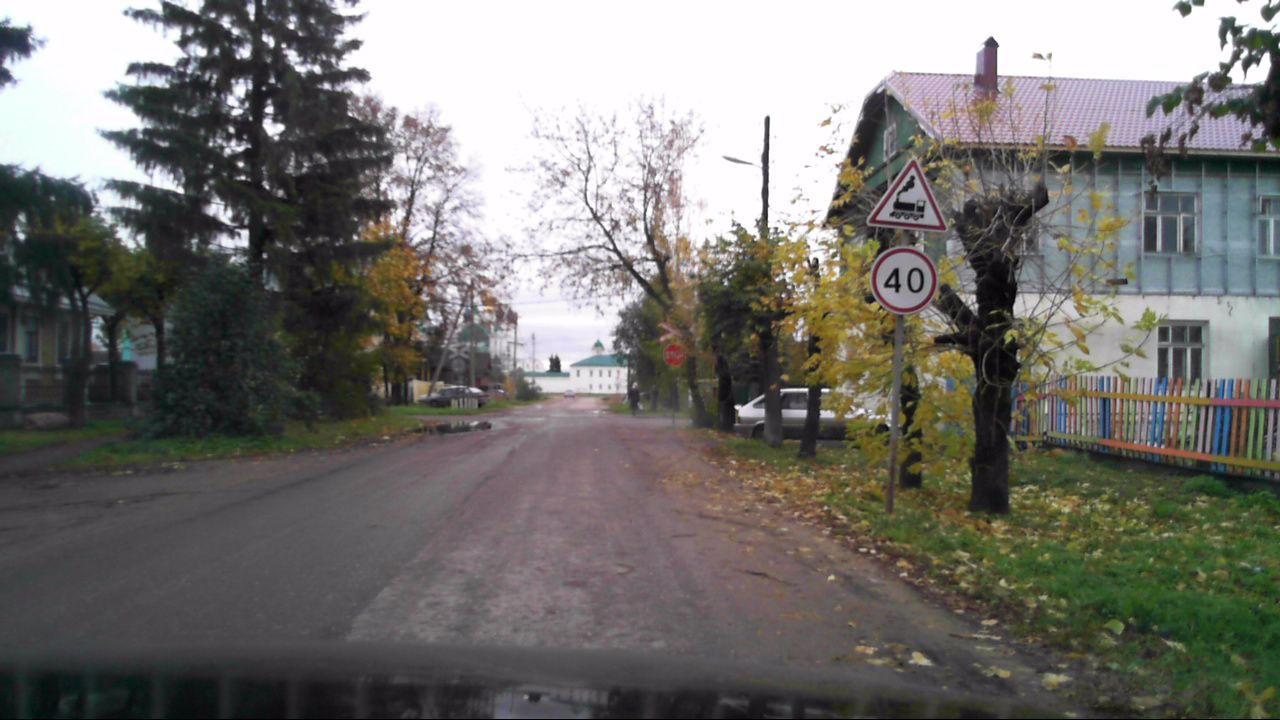speed_warning_40: (868, 246, 938, 315)
